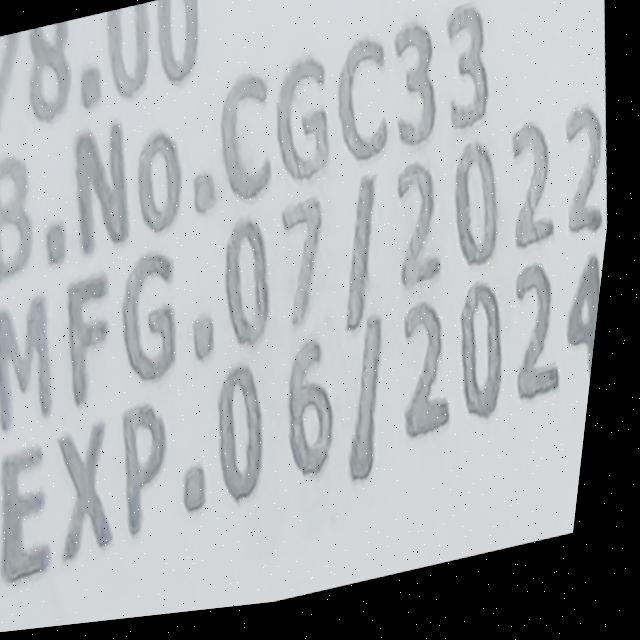sentence: (1, 119, 608, 430), (11, 269, 609, 584), (0, 17, 492, 283), (0, 0, 199, 131)
